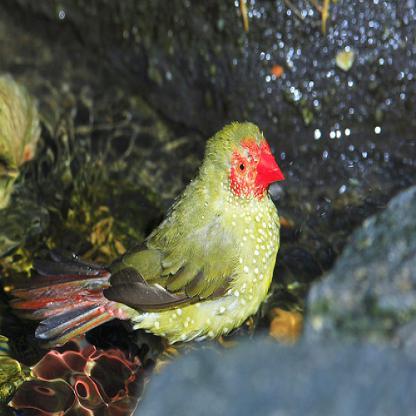bird: (9, 121, 286, 348)
